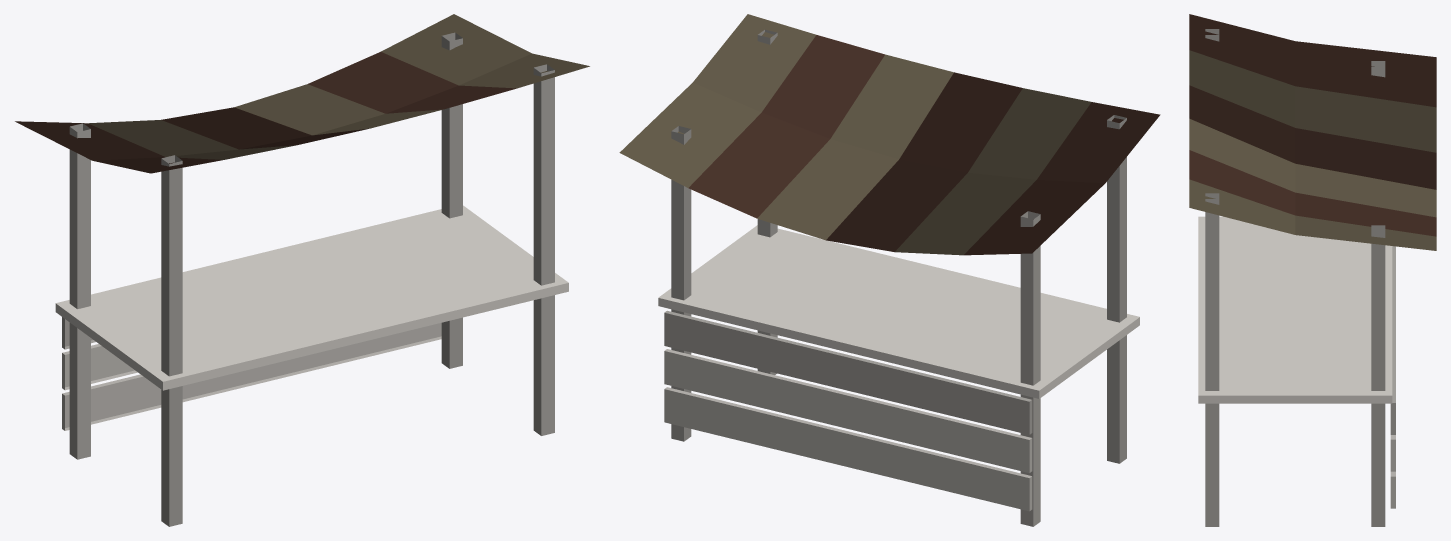
The model's file is prop_street_stall.glb.
The picture shows the model from 3 angles, left to right: view 1: azimuth 30°, elevation 25°; view 2: azimuth 150°, elevation 25°; view 3: azimuth 270°, elevation 25°; orthographic projection. The views are drawn at different scales.
Visible parts, largest first — view 1: Stall; view 2: Stall; view 3: Stall.
Part boxes in pixels (x1,y1,x2,y2): Stall: (15, 14, 589, 526); Stall: (619, 14, 1160, 526); Stall: (1189, 14, 1436, 526).
Size of the model in its own units: 2.6 by 2.07 by 1.4.
